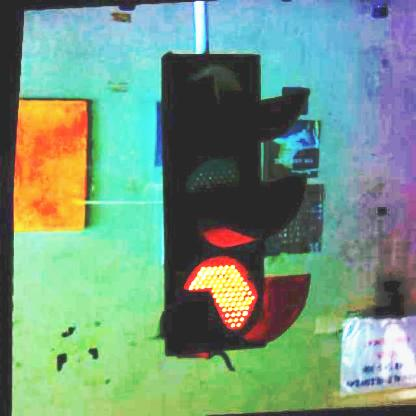Traffic Light -Red-: (141, 46, 323, 354)
